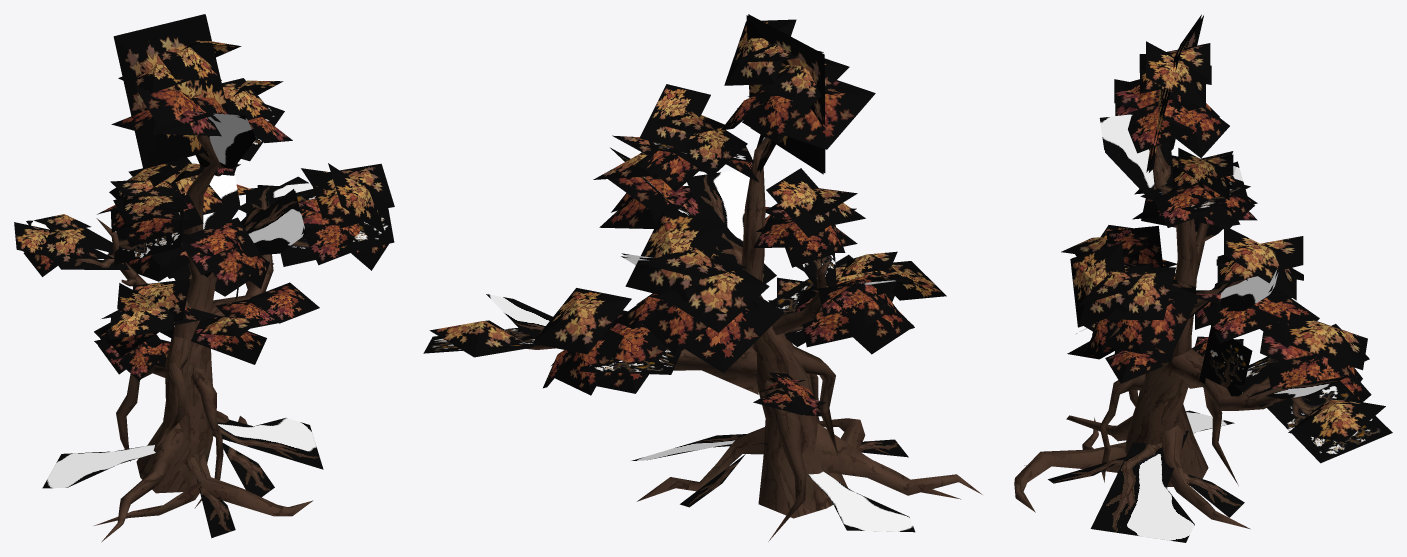
File: 2_Plant_Fengshu_03.FBX
The picture shows the model from 3 angles, left to right: view 1: azimuth 30°, elevation 25°; view 2: azimuth 150°, elevation 25°; view 3: azimuth 270°, elevation 25°; orthographic projection. The views are drawn at different scales.
Visible parts, largest first — view 1: 2_Plant_Fengshu_03_04, 2_Plant_Fengshu_03_01, 2_Plant_Fengshu_03_02, 2_Plant_Fengshu_03_03; view 2: 2_Plant_Fengshu_03_04, 2_Plant_Fengshu_03_01, 2_Plant_Fengshu_03_03, 2_Plant_Fengshu_03_02; view 3: 2_Plant_Fengshu_03_01, 2_Plant_Fengshu_03_04, 2_Plant_Fengshu_03_02, 2_Plant_Fengshu_03_03.
Boxes of the visible parts, box(x1,y1,x2,y2) form: 2_Plant_Fengshu_03_04: box(94, 14, 292, 364); 2_Plant_Fengshu_03_01: box(42, 113, 323, 542); 2_Plant_Fengshu_03_02: box(14, 163, 394, 328); 2_Plant_Fengshu_03_03: box(94, 157, 273, 380); 2_Plant_Fengshu_03_04: box(634, 14, 946, 354); 2_Plant_Fengshu_03_01: box(486, 134, 982, 541); 2_Plant_Fengshu_03_03: box(532, 209, 825, 416); 2_Plant_Fengshu_03_02: box(423, 135, 928, 357); 2_Plant_Fengshu_03_01: box(1014, 114, 1349, 542); 2_Plant_Fengshu_03_04: box(1061, 14, 1254, 359); 2_Plant_Fengshu_03_02: box(1070, 151, 1392, 463); 2_Plant_Fengshu_03_03: box(1191, 228, 1371, 407).
Size of the model in its own units: 1118 by 1216 by 902.
Materials: 2 (2 with a texture image).
